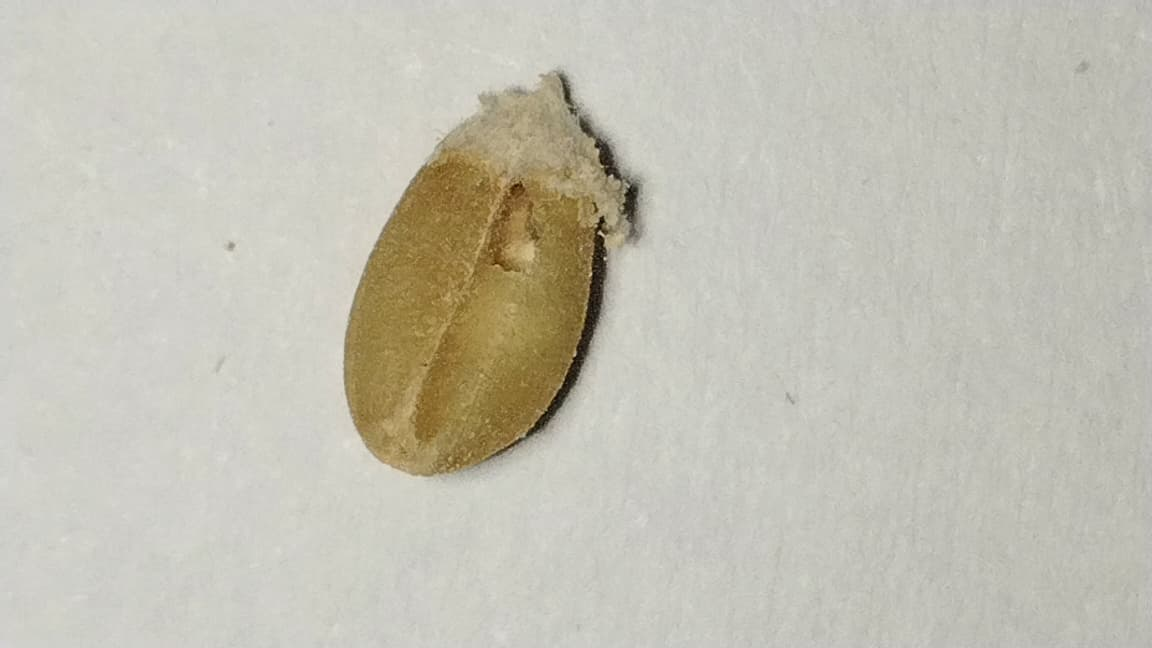damage: (345, 75, 634, 474)
insectdamage: (481, 182, 549, 291)
molddamage: (454, 73, 623, 242)
